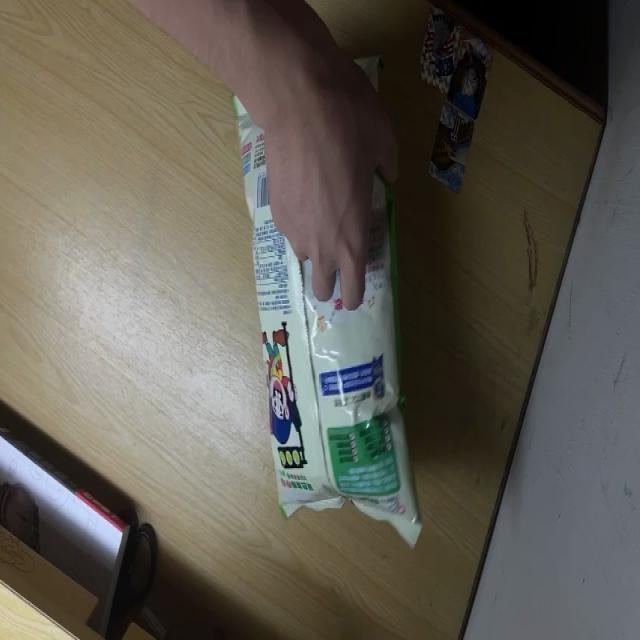Good-Luck: (226, 49, 421, 549)
